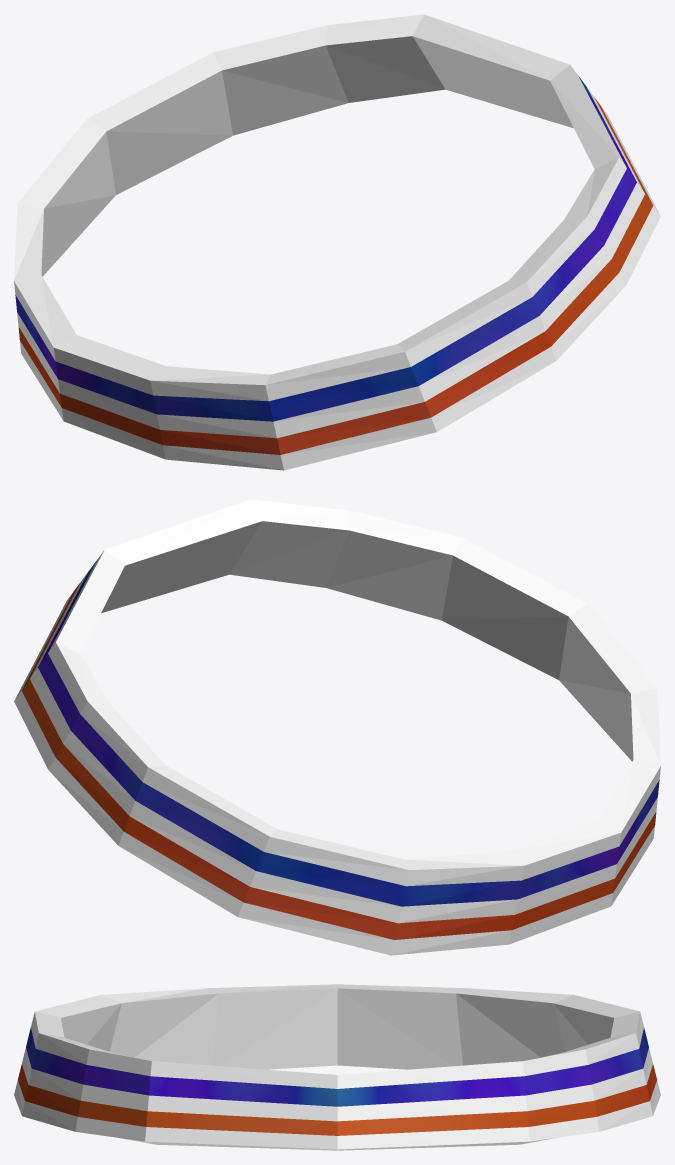
The model's file is SWEATBAND.fbx.
The picture shows the model from 3 angles, top to bottom: view 1: azimuth 30°, elevation 25°; view 2: azimuth 150°, elevation 25°; view 3: azimuth 270°, elevation 25°; orthographic projection. The views are drawn at different scales.
Visible parts, largest first — view 1: SWEATBAND; view 2: SWEATBAND; view 3: SWEATBAND.
Part boxes in pixels (<box>): SWEATBAND: <box>14,14,660,470</box>; SWEATBAND: <box>14,499,660,955</box>; SWEATBAND: <box>14,984,660,1150</box>.
Size of the model in its own units: 24.52 by 9.86 by 26.05.
